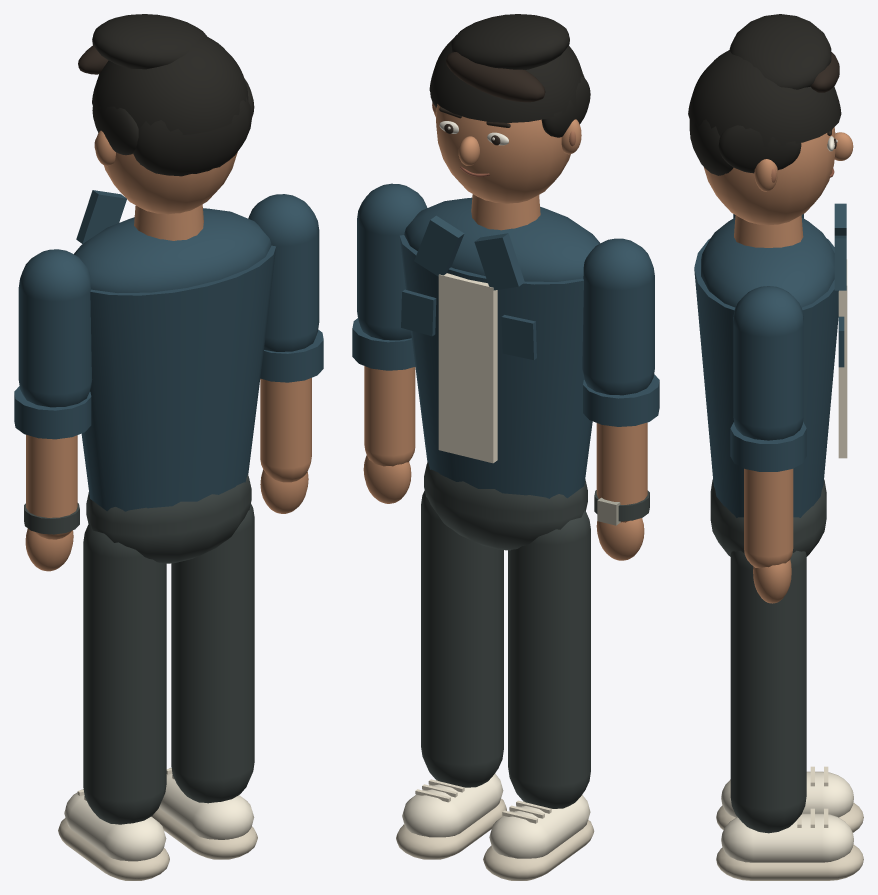
The model's file is gaurav-v2.glb.
3 views of the same model, side by side, from view 1: azimuth 30°, elevation 25°; view 2: azimuth 150°, elevation 25°; view 3: azimuth 270°, elevation 25° (orthographic). The views are drawn at different scales.
Visible parts, largest first — view 1: Chino (×2), Overshirt, UpperSleeve (×2), ShoulderYoke, HairCap, Forearm (×2), Waist, SneakerUpper (×2), HairBack, RolledCuff (×2), SweptQuiff, Face (+6 smaller); view 2: Chino (×2), Overshirt, UpperSleeve (×2), T_Shirt, Forearm (×2), Face, SneakerUpper (×2), ShoulderYoke, Waist, HairCap, SweptQuiff, RolledCuff (×2) (+10 smaller); view 3: Chino, Overshirt, UpperSleeve, HairCap, ShoulderYoke, SneakerUpper (×2), Face, SweptQuiff, Forearm, SneakerSole (×2), Waist, RolledCuff (+10 smaller).
Boxes of the visible parts, x1,y1,x2,y2 form: Chino (×2): [83, 504, 254, 824]; Overshirt: [81, 245, 276, 511]; UpperSleeve (×2): [18, 194, 319, 407]; ShoulderYoke: [74, 208, 271, 292]; HairCap: [92, 37, 248, 134]; Forearm (×2): [26, 378, 311, 539]; Waist: [86, 474, 251, 563]; SneakerUpper (×2): [64, 767, 254, 861]; HairBack: [133, 97, 251, 176]; RolledCuff (×2): [14, 330, 323, 439]; SweptQuiff: [92, 14, 207, 69]; Face: [104, 152, 237, 214]; Chino (×2): [421, 491, 590, 808]; Overshirt: [399, 235, 592, 498]; UpperSleeve (×2): [357, 183, 654, 395]; T_Shirt: [438, 273, 497, 463]; Forearm (×2): [364, 366, 647, 522]; Face: [436, 104, 570, 203]; SneakerUpper (×2): [402, 773, 590, 858]; ShoulderYoke: [404, 197, 600, 281]; Waist: [424, 462, 587, 550]; HairCap: [429, 35, 583, 122]; SweptQuiff: [450, 14, 569, 69]; RolledCuff (×2): [352, 318, 659, 426]; Chino: [730, 550, 806, 833]; Overshirt: [694, 238, 838, 517]; UpperSleeve: [733, 286, 803, 440]; HairCap: [688, 50, 841, 146]; ShoulderYoke: [701, 218, 834, 307]; SneakerUpper (×2): [721, 771, 853, 862]; Face: [704, 127, 835, 225]; SweptQuiff: [729, 14, 831, 89]; Forearm: [744, 468, 793, 568]; SneakerSole (×2): [716, 802, 863, 880]; Waist: [710, 479, 826, 556]; RolledCuff: [730, 422, 806, 471].
Bounding box in the file's own units: 0.706 × 1.89 × 0.3688.
